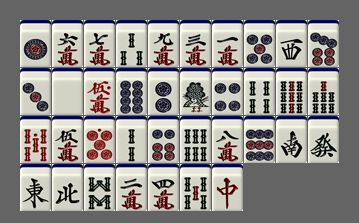0m: (84, 68, 115, 115)
0p: (84, 116, 115, 163)
0s: (20, 116, 51, 163)
1m: (212, 20, 243, 67)
1p: (20, 20, 51, 67)
1s: (180, 68, 211, 115)
1z: (20, 164, 51, 211)
2m: (116, 164, 147, 211)
2p: (148, 68, 179, 115)
2s: (116, 116, 147, 163)
2z: (276, 116, 307, 163)
3m: (180, 20, 211, 67)
3p: (20, 68, 51, 115)
3s: (116, 20, 147, 67)
3z: (276, 20, 307, 67)
4m: (148, 164, 179, 211)
4p: (212, 68, 243, 115)
4s: (244, 68, 275, 115)
4z: (52, 164, 83, 211)
5m: (52, 116, 83, 163)
5p: (244, 20, 275, 67)
5s: (180, 164, 211, 211)
5z: (52, 68, 83, 115)
6m: (52, 20, 83, 67)
6p: (148, 116, 179, 163)
6s: (180, 116, 211, 163)
6z: (308, 116, 339, 163)
7m: (84, 20, 115, 67)
7p: (308, 20, 339, 67)
7s: (308, 68, 339, 115)
7z: (212, 164, 243, 211)
8m: (212, 116, 243, 163)
8p: (116, 68, 147, 115)
8s: (84, 164, 115, 211)
9m: (148, 20, 179, 67)
9p: (244, 116, 275, 163)
9s: (276, 68, 307, 115)
